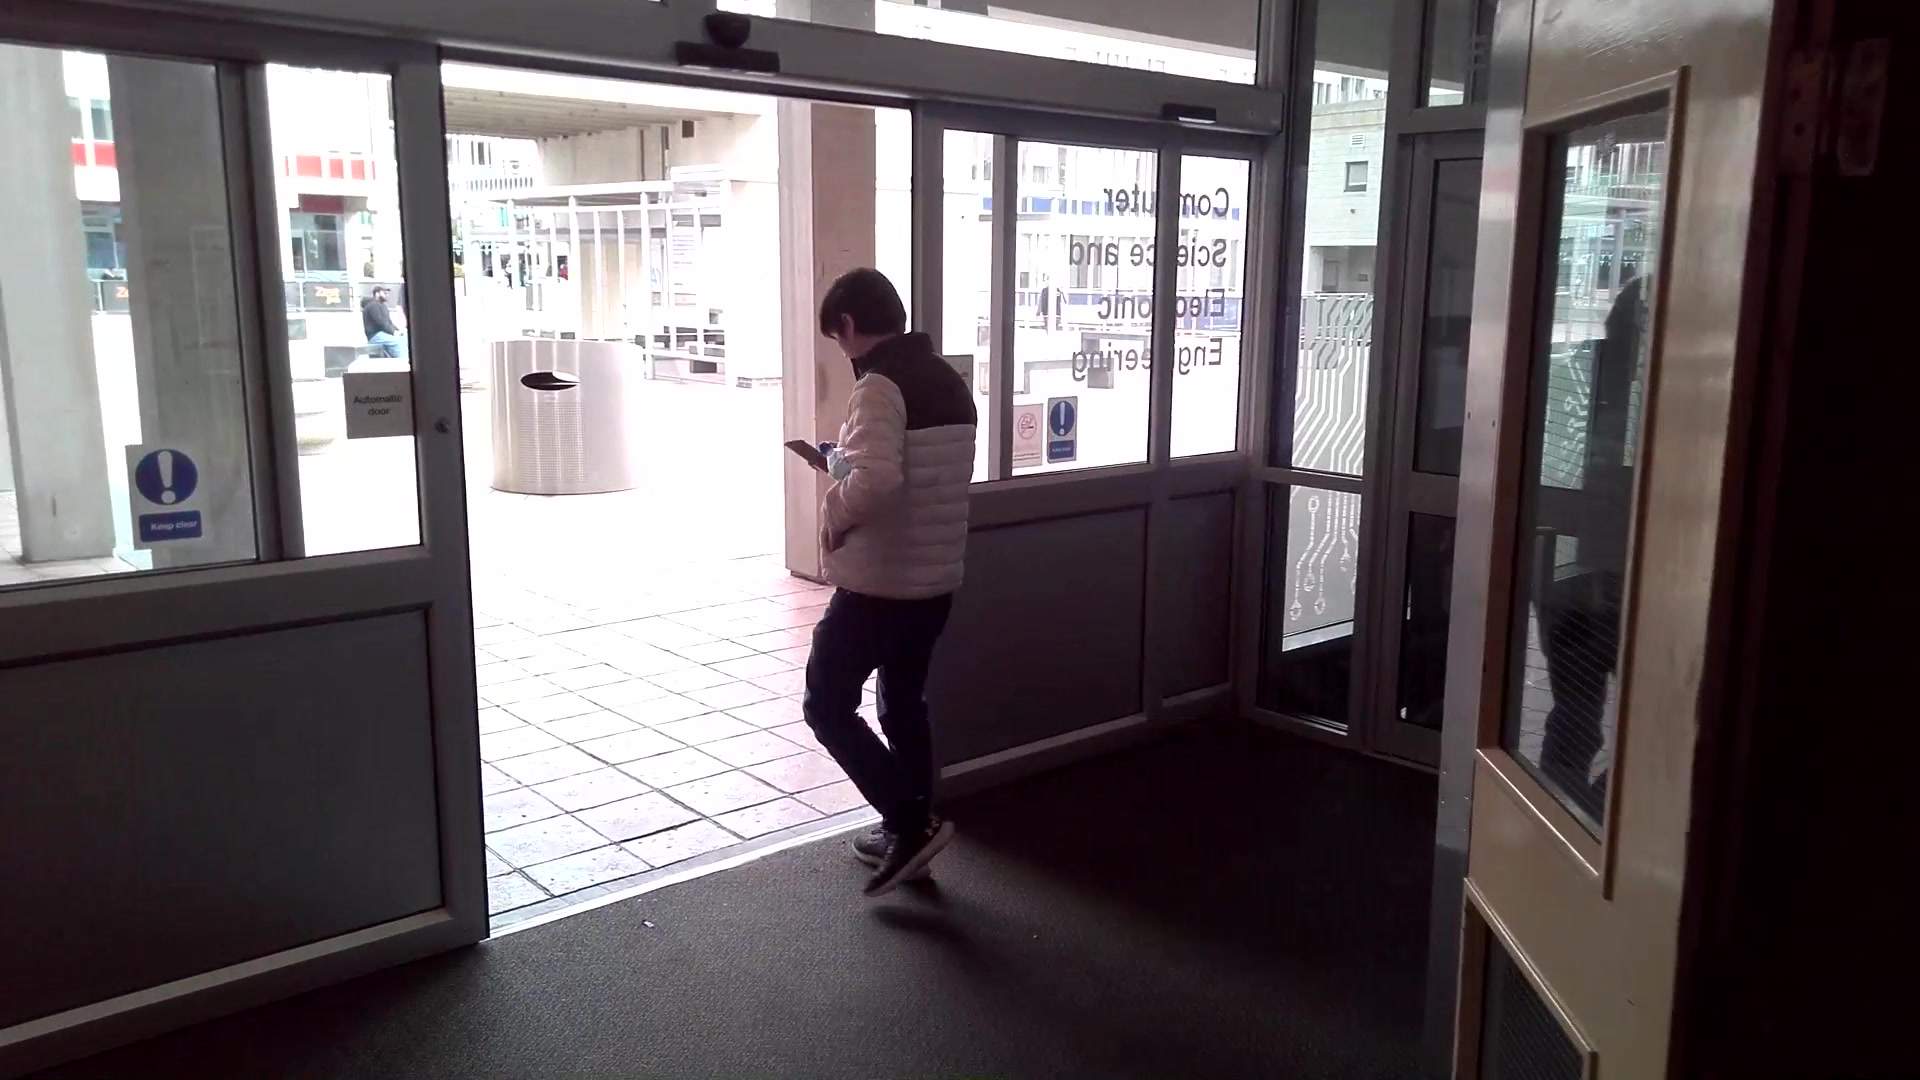Person: (796, 258, 986, 898)
